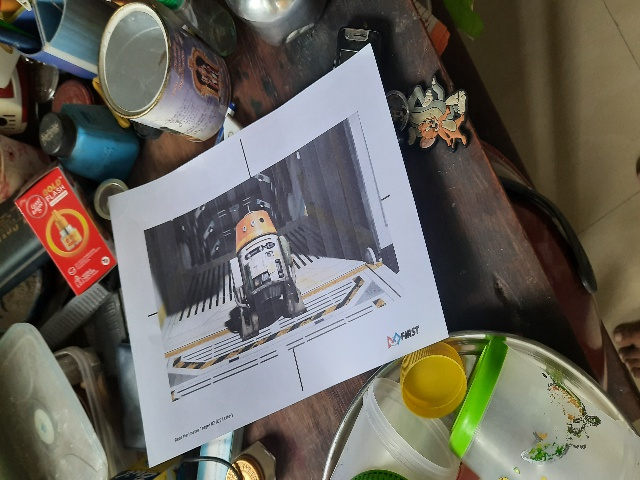rept2: (139, 115, 406, 383)
